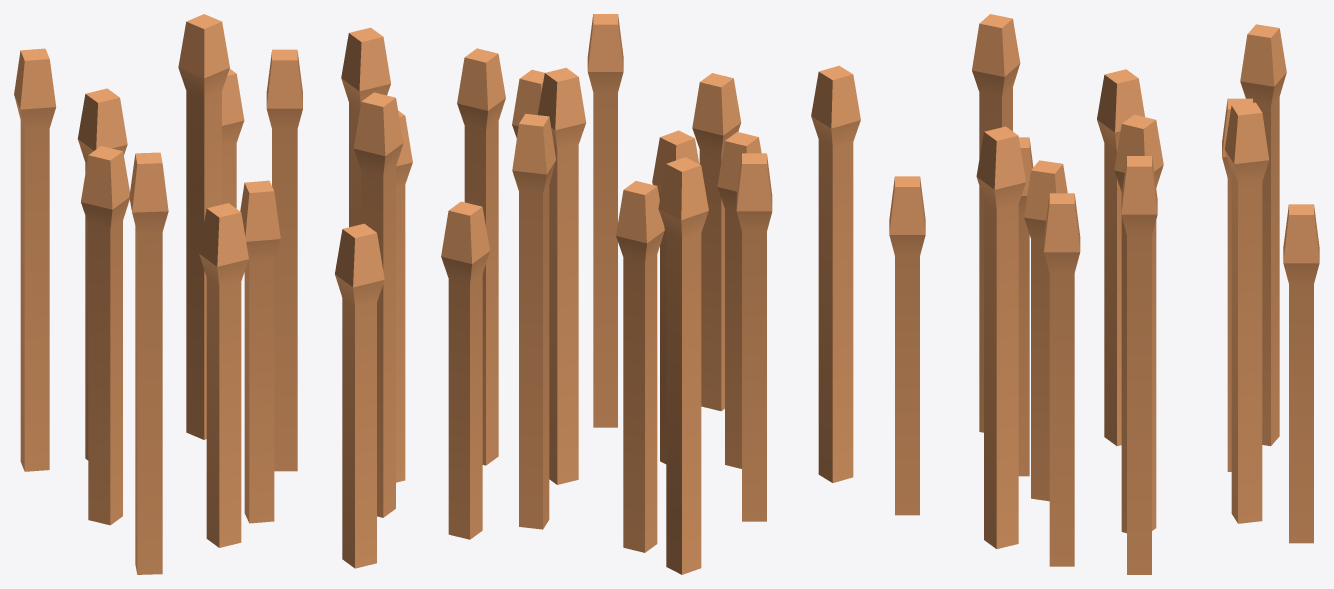
Rendered from wheat.fbx.
3 renders of one model, left to right at view 1: azimuth 30°, elevation 25°; view 2: azimuth 150°, elevation 25°; view 3: azimuth 270°, elevation 25°, orthographic.
Parts seen in each view (by area): view 1: wheat; view 2: wheat; view 3: wheat.
Boxes of the visible parts, box(x1,y1,x2,y2) form: wheat: box(14, 14, 412, 574); wheat: box(441, 14, 860, 574); wheat: box(889, 14, 1319, 574).
Size of the model in its own units: 3.11 by 3.75 by 3.58.
